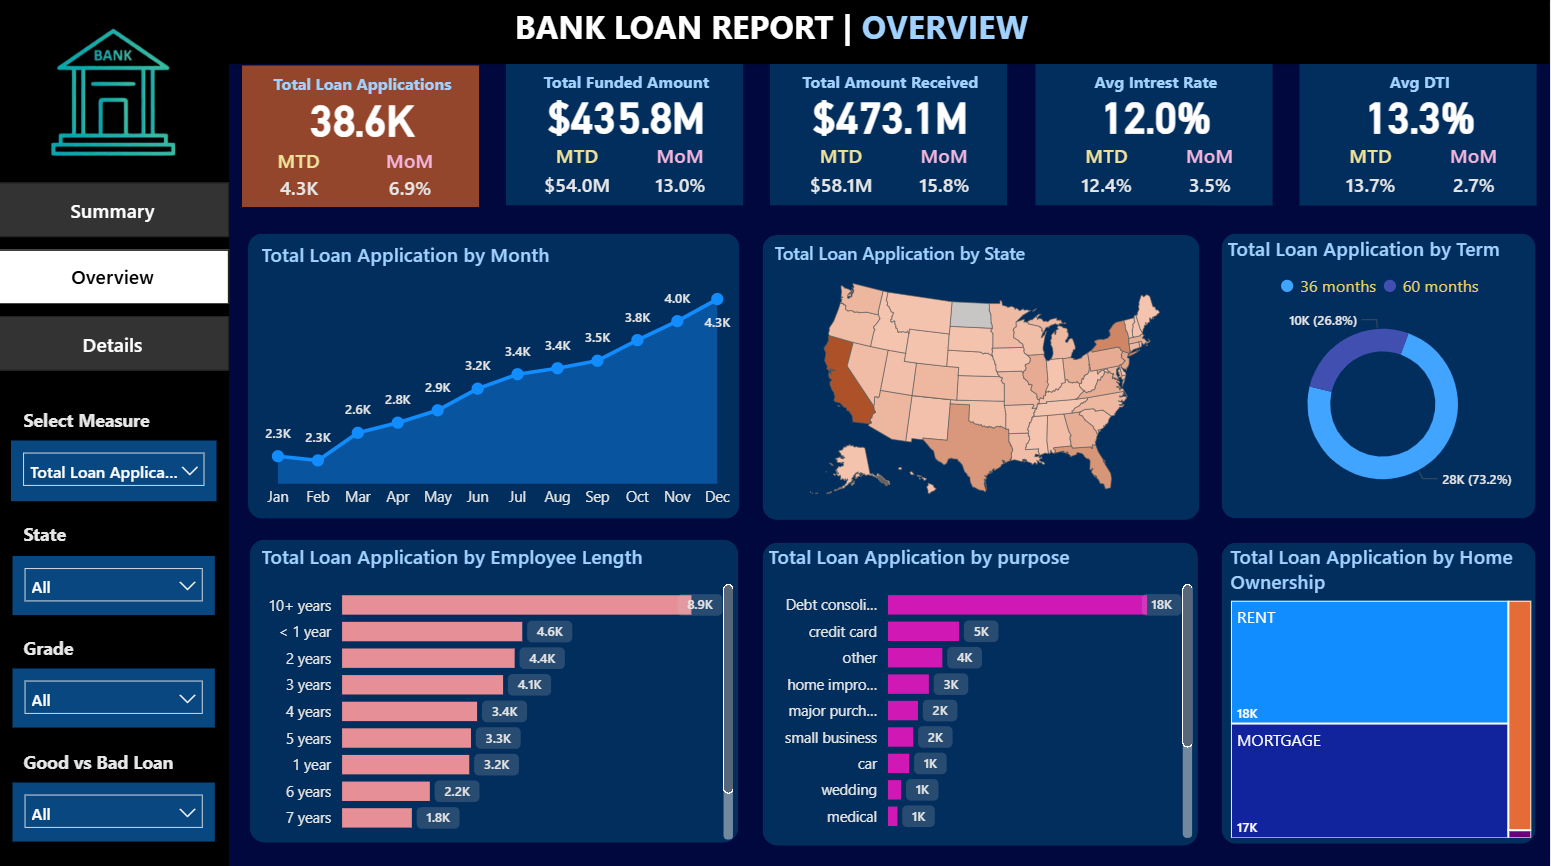

Layout of this report page (visuals, bound fields, positions):
{"tool":"powerbi","page":{"name":"Overview","canvas":[1280,720],"ordinal":1},"visuals":[{"type":"shape","box":[0,0,1279.5,54.5],"z":0},{"type":"shape","box":[0,54.5,192.3,664.7],"z":1000},{"type":"textbox","box":[422.5,0,436.1,57.5],"z":2000},{"type":"shape","box":[420.6,54.5,195.3,116.6],"z":3000,"group":"g2"},{"type":"shape","box":[638.2,54.5,195.3,116.6],"z":3000,"group":"g3"},{"type":"shape","box":[855.9,54.5,195.3,116.6],"z":3000,"group":"g4"},{"type":"shape","box":[1073.6,54.5,195.3,116.6],"z":3000,"group":"g5"},{"type":"shape","box":[202.9,56,195.3,116.6],"z":3000,"group":"g1"},{"type":"shape","box":[207.4,193.8,405,235],"z":3000},{"type":"card","fields":{"Values":["bank_loan_tb.Total Funded Amount"]},"box":[446.6,55.2,145.4,80.3],"z":4000,"group":"g2"},{"type":"card","fields":{"Values":["bank_loan_tb.Total Amount Received"]},"box":[664.2,55.2,145.4,80.3],"z":4000,"group":"g3"},{"type":"card","fields":{"Values":["bank_loan_tb.Avg Intrest Rate"]},"box":[881.9,55.2,145.4,80.3],"z":4000,"group":"g4"},{"type":"card","fields":{"Values":["bank_loan_tb.Avg DTI"]},"box":[1099.6,55.2,145.4,80.3],"z":4000,"group":"g5"},{"type":"group","id":"g1","title":"Group 1","box":[202.9,56,198.4,116.6],"z":4000},{"type":"card","fields":{"Values":["bank_loan_tb.Bank Loan Application"]},"box":[236.2,60.5,130.2,75.7],"z":4000,"group":"g1"},{"type":"group","id":"g2","title":"Group 1","box":[420.6,54.5,198.4,116.6],"z":5000},{"type":"textbox","box":[420.6,54.5,198.4,28.8],"z":5000,"group":"g2"},{"type":"textbox","box":[638.2,54.5,198.4,28.8],"z":5000,"group":"g3"},{"type":"textbox","box":[855.9,54.5,198.4,28.8],"z":5000,"group":"g4"},{"type":"textbox","box":[1073.6,54.5,198.4,28.8],"z":5000,"group":"g5"},{"type":"textbox","box":[202.9,56,198.4,28.8],"z":5000,"group":"g1"},{"type":"group","id":"g3","title":"Group 1","box":[638.2,54.5,198.4,116.6],"z":6000},{"type":"card","title":"MTD","fields":{"Values":["bank_loan_tb.MTD Funded Amount"]},"box":[446.6,118.8,65.1,53],"z":6000,"group":"g2"},{"type":"card","title":"MTD","fields":{"Values":["bank_loan_tb.MTD Total Amount Received"]},"box":[664.2,118.8,65.1,53],"z":6000,"group":"g3"},{"type":"card","title":"MTD","fields":{"Values":["bank_loan_tb.MTD Avg Intrest Rate"]},"box":[881.9,118.8,65.1,53],"z":6000,"group":"g4"},{"type":"card","title":"MTD","fields":{"Values":["bank_loan_tb.MTD Avg DTI Rate"]},"box":[1099.6,118.8,65.1,53],"z":6000,"group":"g5"},{"type":"card","title":"MTD","fields":{"Values":["bank_loan_tb.MTD Loan Application"]},"box":[224.1,122.6,51.5,50],"z":6000,"group":"g1"},{"type":"group","id":"g4","title":"Group 1","box":[855.9,54.5,198.4,116.6],"z":7000},{"type":"card","title":"MoM","fields":{"Values":["bank_loan_tb.MoM Funded Amount"]},"box":[532.9,118.8,62.1,53],"z":7000,"group":"g2"},{"type":"card","title":"MoM","fields":{"Values":["bank_loan_tb.MoM Total Amount Received"]},"box":[750.5,118.8,62.1,53],"z":7000,"group":"g3"},{"type":"card","title":"MoM","fields":{"Values":["bank_loan_tb.MoM Intrest Rate"]},"box":[968.2,118.8,62.1,53],"z":7000,"group":"g4"},{"type":"card","title":"MoM","fields":{"Values":["bank_loan_tb.MoM Avg DTI Rate"]},"box":[1185.9,118.8,62.1,53],"z":7000,"group":"g5"},{"type":"card","title":"MoM","fields":{"Values":["bank_loan_tb.MoM Loan Application"]},"box":[315,122.6,51.5,50],"z":7000,"group":"g1"},{"type":"group","id":"g5","title":"Group 1","box":[1073.6,54.5,198.4,116.6],"z":8000},{"type":"slicer","fields":{"Values":["bank_loan_tb.address_state"]},"box":[13.6,459.3,166.6,48.5],"z":9000},{"type":"textbox","box":[13.6,426.5,98.4,31.8],"z":10000},{"type":"slicer","fields":{"Values":["bank_loan_tb.grade"]},"box":[13.6,552.7,166.6,48.5],"z":11000},{"type":"textbox","box":[13.6,520.4,98.4,31.8],"z":12000},{"type":"slicer","fields":{"Values":["bank_loan_tb.Good vs Bad Loans"]},"box":[13.6,646.1,166.6,48.5],"z":13000},{"type":"textbox","box":[13.6,614.3,142.3,31.8],"z":14000},{"type":"areaChart","fields":{"Y":["bank_loan_tb.Total Loan Application"],"Category":["Date Table.Month"]},"box":[213.5,199.9,398.2,228.6],"z":15000},{"type":"slicer","fields":{"Values":["Select Measure.Select Measure"]},"box":[12.1,364.4,169.6,50],"z":16000},{"type":"textbox","box":[13.6,332.6,119.6,31.8],"z":17000},{"type":"shape","box":[631.4,195.3,360,234.7],"z":18000},{"type":"shapeMap","fields":{"Value":["bank_loan_tb.Total Loan Application"],"Category":["bank_loan_tb.address_state"]},"box":[636,199.9,355.8,222.6],"z":19000},{"type":"shape","box":[1010,193.8,258.9,234.7],"z":20000},{"type":"donutChart","fields":{"Y":["bank_loan_tb.Total Loan Application"],"Category":["bank_loan_tb.term"]},"box":[1010,195.3,265,227.1],"z":21000},{"type":"shape","box":[209,446.7,402.8,249.8],"z":22000},{"type":"barChart","fields":{"Y":["bank_loan_tb.Total Loan Application"],"Category":["bank_loan_tb.emp_length"]},"box":[213.5,448.2,398.2,249.8],"z":23000},{"type":"shape","box":[631.4,448.2,358.9,249.8],"z":24000},{"type":"barChart","fields":{"Y":["bank_loan_tb.Total Loan Application"],"Category":["bank_loan_tb.purpose"]},"box":[631.4,448.2,358.9,248.3],"z":25000},{"type":"shape","box":[1010,448.2,258.9,248.3],"z":26000},{"type":"treemap","fields":{"Values":["bank_loan_tb.Total Loan Application"],"Group":["bank_loan_tb.home_ownership"]},"box":[1011.5,448.2,257.4,248.3],"z":27000},{"type":"pageNavigator","box":[0,152.4,192.3,157.5],"z":28000},{"type":"image","box":[13.6,3,166.6,149.9],"z":29000}]}

Visuals, with their boxes on the page's 1280x720 design canvas (x1, y1, x2, y2). These are canvas units, not pixel positions in the 1551x866 screenshot, which may show the page scaled, cropped or inside an application window:
shape: {"x1": 0, "y1": 0, "x2": 1280, "y2": 54}
shape: {"x1": 0, "y1": 54, "x2": 192, "y2": 719}
textbox: {"x1": 422, "y1": 0, "x2": 859, "y2": 58}
shape: {"x1": 421, "y1": 54, "x2": 616, "y2": 171}
shape: {"x1": 638, "y1": 54, "x2": 834, "y2": 171}
shape: {"x1": 856, "y1": 54, "x2": 1051, "y2": 171}
shape: {"x1": 1074, "y1": 54, "x2": 1269, "y2": 171}
shape: {"x1": 203, "y1": 56, "x2": 398, "y2": 173}
shape: {"x1": 207, "y1": 194, "x2": 612, "y2": 429}
card - bank_loan_tb.Total Funded Amount: {"x1": 447, "y1": 55, "x2": 592, "y2": 136}
card - bank_loan_tb.Total Amount Received: {"x1": 664, "y1": 55, "x2": 810, "y2": 136}
card - bank_loan_tb.Avg Intrest Rate: {"x1": 882, "y1": 55, "x2": 1027, "y2": 136}
card - bank_loan_tb.Avg DTI: {"x1": 1100, "y1": 55, "x2": 1245, "y2": 136}
"Group 1" group: {"x1": 203, "y1": 56, "x2": 401, "y2": 173}
card - bank_loan_tb.Bank Loan Application: {"x1": 236, "y1": 60, "x2": 366, "y2": 136}
"Group 1" group: {"x1": 421, "y1": 54, "x2": 619, "y2": 171}
textbox: {"x1": 421, "y1": 54, "x2": 619, "y2": 83}
textbox: {"x1": 638, "y1": 54, "x2": 837, "y2": 83}
textbox: {"x1": 856, "y1": 54, "x2": 1054, "y2": 83}
textbox: {"x1": 1074, "y1": 54, "x2": 1272, "y2": 83}
textbox: {"x1": 203, "y1": 56, "x2": 401, "y2": 85}
"Group 1" group: {"x1": 638, "y1": 54, "x2": 837, "y2": 171}
"MTD" card: {"x1": 447, "y1": 119, "x2": 512, "y2": 172}
"MTD" card: {"x1": 664, "y1": 119, "x2": 729, "y2": 172}
"MTD" card: {"x1": 882, "y1": 119, "x2": 947, "y2": 172}
"MTD" card: {"x1": 1100, "y1": 119, "x2": 1165, "y2": 172}
"MTD" card: {"x1": 224, "y1": 123, "x2": 276, "y2": 173}
"Group 1" group: {"x1": 856, "y1": 54, "x2": 1054, "y2": 171}
"MoM" card: {"x1": 533, "y1": 119, "x2": 595, "y2": 172}
"MoM" card: {"x1": 750, "y1": 119, "x2": 813, "y2": 172}
"MoM" card: {"x1": 968, "y1": 119, "x2": 1030, "y2": 172}
"MoM" card: {"x1": 1186, "y1": 119, "x2": 1248, "y2": 172}
"MoM" card: {"x1": 315, "y1": 123, "x2": 366, "y2": 173}
"Group 1" group: {"x1": 1074, "y1": 54, "x2": 1272, "y2": 171}
slicer - bank_loan_tb.address_state: {"x1": 14, "y1": 459, "x2": 180, "y2": 508}
textbox: {"x1": 14, "y1": 426, "x2": 112, "y2": 458}
slicer - bank_loan_tb.grade: {"x1": 14, "y1": 553, "x2": 180, "y2": 601}
textbox: {"x1": 14, "y1": 520, "x2": 112, "y2": 552}
slicer - bank_loan_tb.Good vs Bad Loans: {"x1": 14, "y1": 646, "x2": 180, "y2": 695}
textbox: {"x1": 14, "y1": 614, "x2": 156, "y2": 646}
areaChart - bank_loan_tb.Total Loan Application x Date Table.Month: {"x1": 214, "y1": 200, "x2": 612, "y2": 428}
slicer - Select Measure.Select Measure: {"x1": 12, "y1": 364, "x2": 182, "y2": 414}
textbox: {"x1": 14, "y1": 333, "x2": 133, "y2": 364}
shape: {"x1": 631, "y1": 195, "x2": 991, "y2": 430}
shapeMap - bank_loan_tb.Total Loan Application x bank_loan_tb.address_state: {"x1": 636, "y1": 200, "x2": 992, "y2": 422}
shape: {"x1": 1010, "y1": 194, "x2": 1269, "y2": 428}
donutChart - bank_loan_tb.Total Loan Application x bank_loan_tb.term: {"x1": 1010, "y1": 195, "x2": 1275, "y2": 422}
shape: {"x1": 209, "y1": 447, "x2": 612, "y2": 696}
barChart - bank_loan_tb.Total Loan Application x bank_loan_tb.emp_length: {"x1": 214, "y1": 448, "x2": 612, "y2": 698}
shape: {"x1": 631, "y1": 448, "x2": 990, "y2": 698}
barChart - bank_loan_tb.Total Loan Application x bank_loan_tb.purpose: {"x1": 631, "y1": 448, "x2": 990, "y2": 696}
shape: {"x1": 1010, "y1": 448, "x2": 1269, "y2": 696}
treemap - bank_loan_tb.Total Loan Application x bank_loan_tb.home_ownership: {"x1": 1012, "y1": 448, "x2": 1269, "y2": 696}
pageNavigator: {"x1": 0, "y1": 152, "x2": 192, "y2": 310}
image: {"x1": 14, "y1": 3, "x2": 180, "y2": 153}
